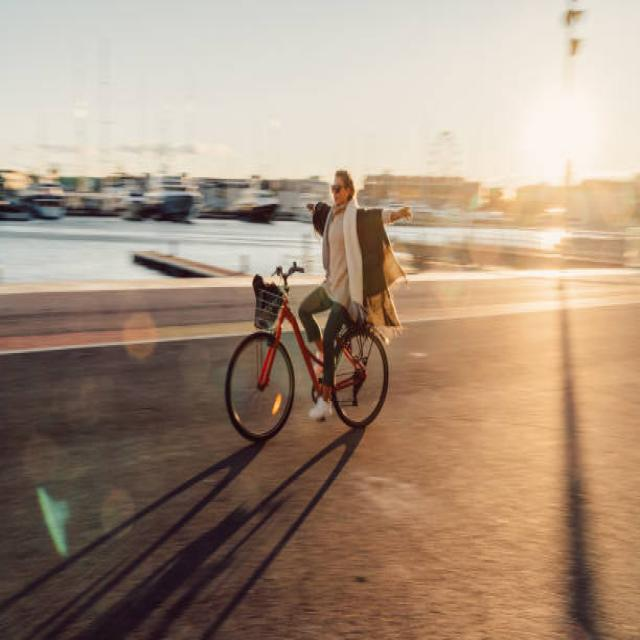bicycle: (225, 169, 410, 441)
